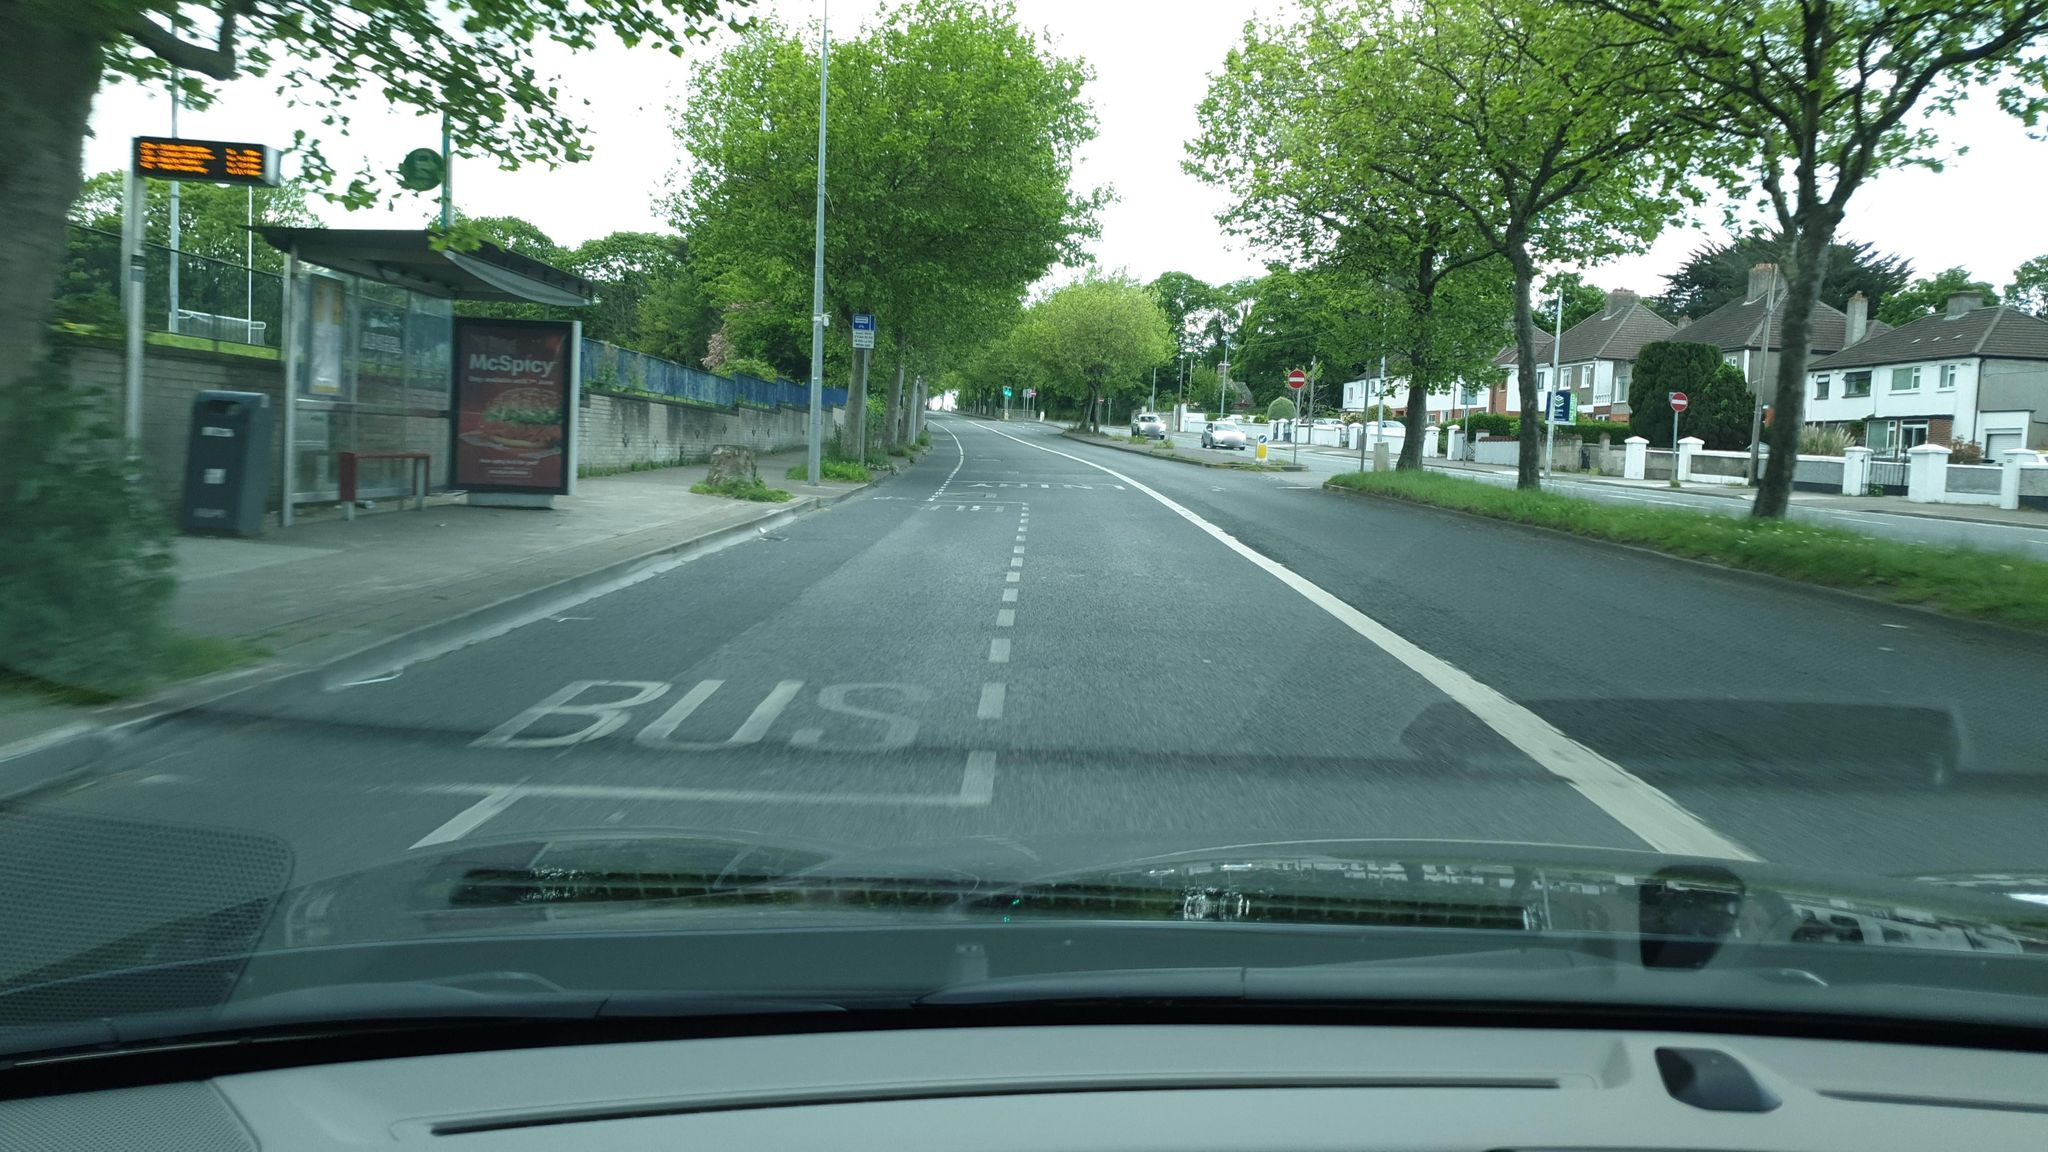property sign: (1542, 378, 1588, 435)
